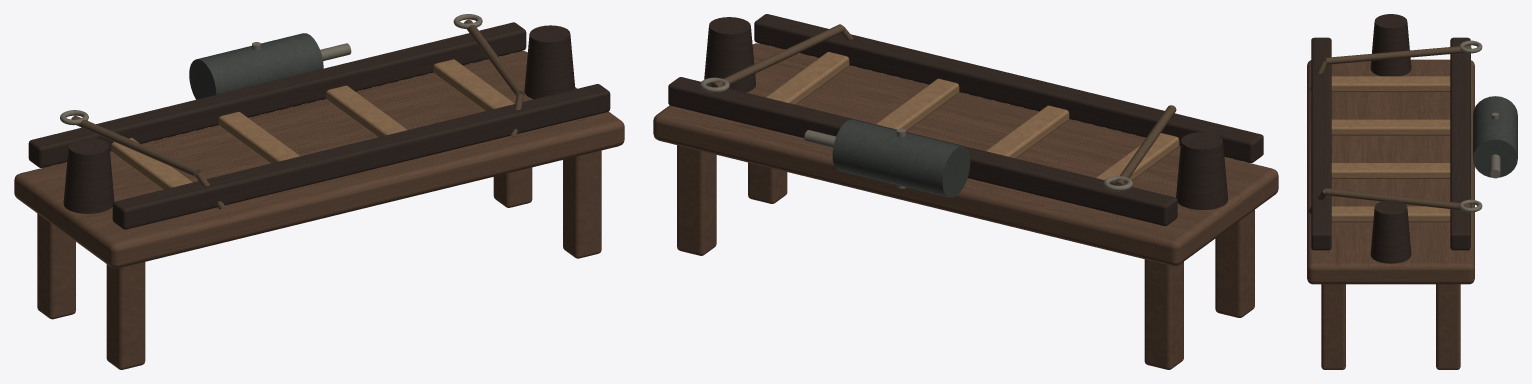
Rendered from torture_rack.glb.
The picture shows the model from 3 angles, left to right: view 1: azimuth 30°, elevation 25°; view 2: azimuth 150°, elevation 25°; view 3: azimuth 270°, elevation 25°; orthographic projection. The views are drawn at different scales.
Visible parts, largest first — view 1: torture_rack; view 2: torture_rack; view 3: torture_rack.
Part boxes in pixels (x1,y1,x2,y2): torture_rack: (14,14,624,369); torture_rack: (653,14,1278,369); torture_rack: (1307,14,1517,369).
Bounding box in the file's own units: 2.8 × 1 × 1.2.
1 material, 1 textured.
